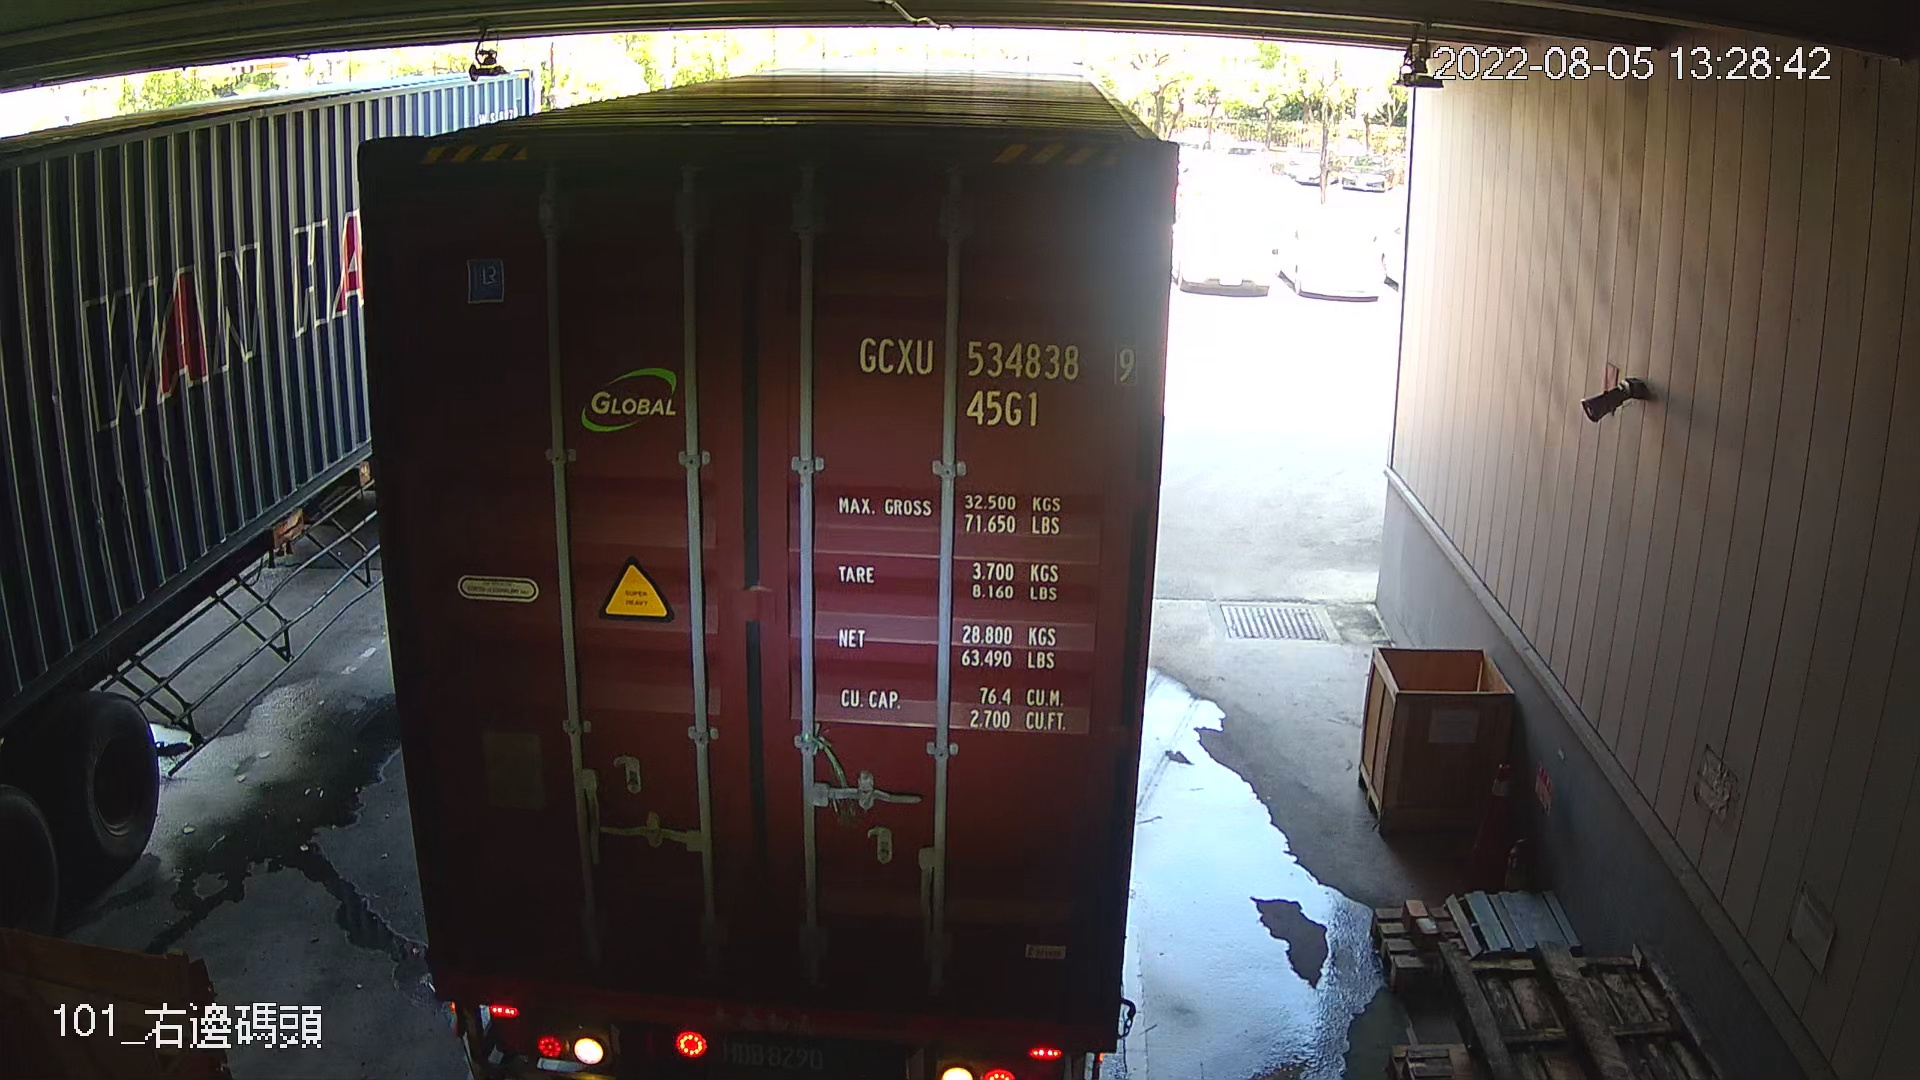container: (839, 316, 1147, 439)
